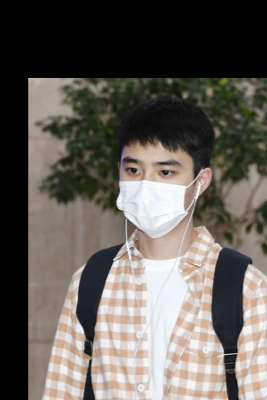with_mask: (120, 153, 196, 239)
